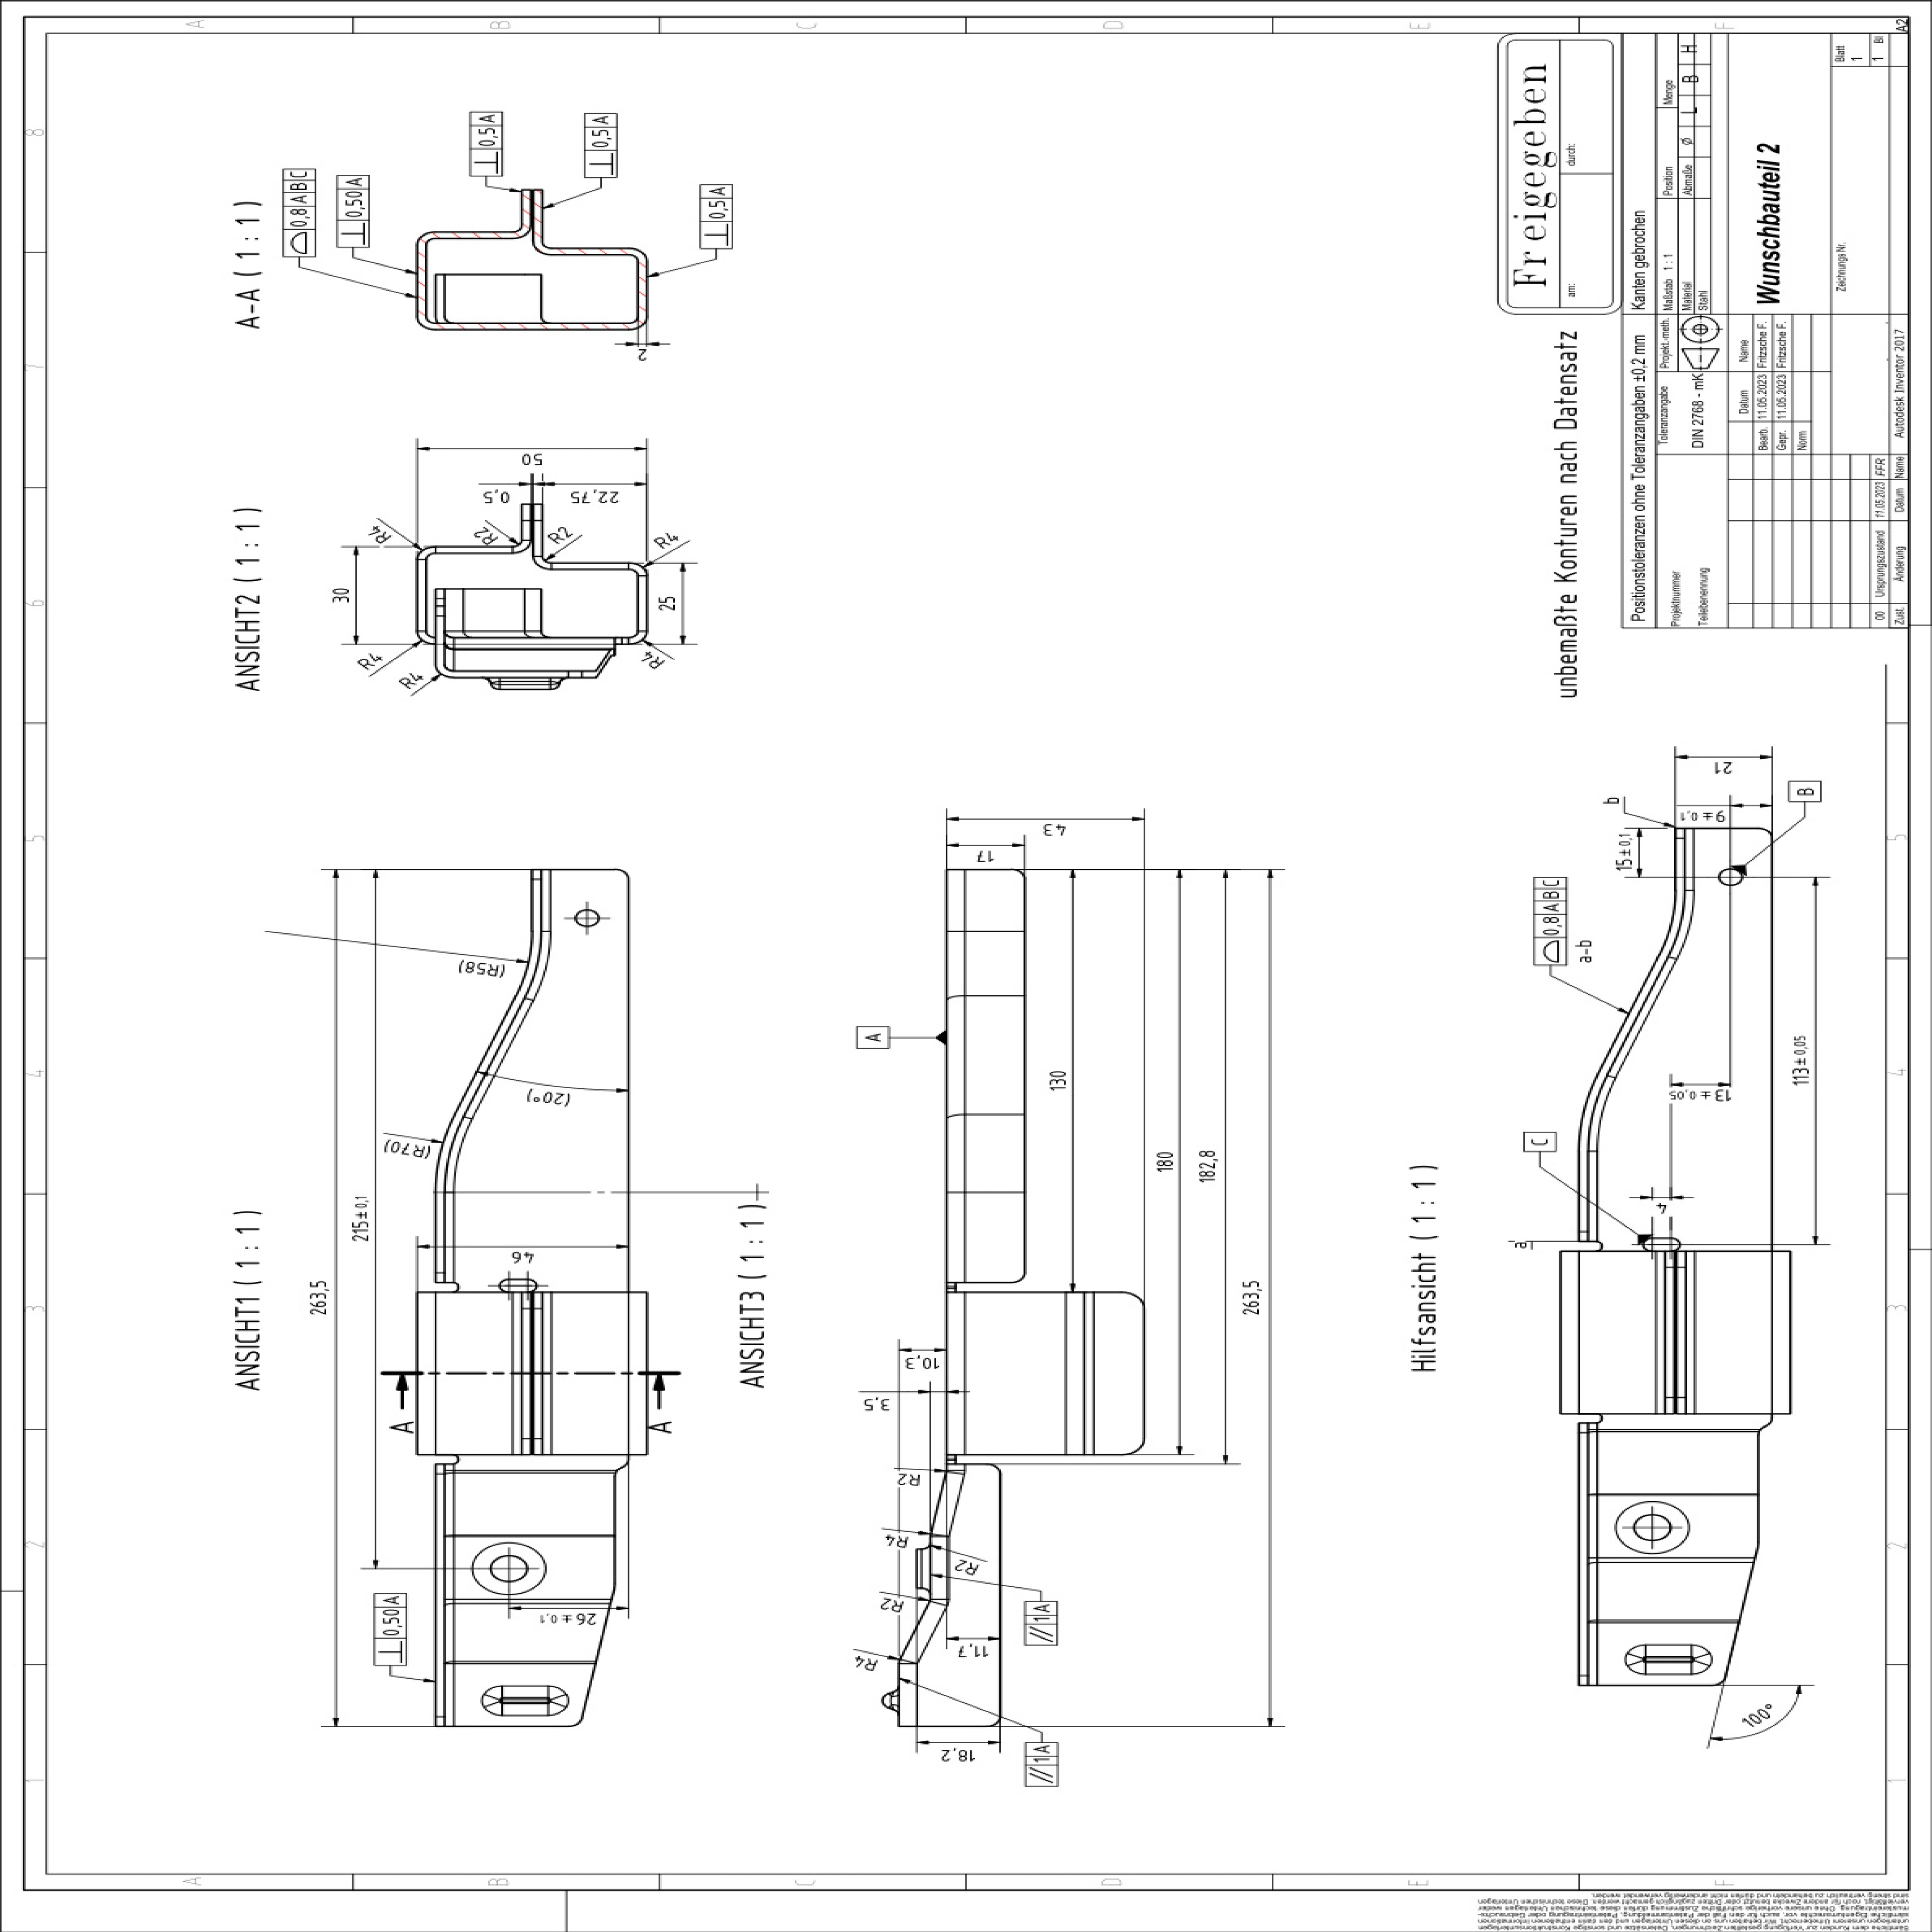3dBending: (1527, 810, 1734, 1251), (389, 855, 591, 1300)
BendingEdge: (1647, 1249, 1700, 1412), (510, 1293, 556, 1454), (1062, 1295, 1099, 1454), (943, 1288, 970, 1454), (414, 1293, 441, 1454), (1767, 1251, 1790, 1414), (625, 1297, 648, 1453), (1560, 1247, 1582, 1412), (1589, 1555, 1753, 1564), (1589, 1428, 1762, 1435), (1594, 1491, 1757, 1497), (1598, 1619, 1739, 1624), (513, 536, 531, 557)
BendingEdgeCurve: (410, 543, 439, 563), (529, 556, 554, 570), (416, 628, 433, 648), (628, 561, 649, 577), (628, 630, 648, 646)
Embossment: (476, 1683, 571, 1720), (1621, 1644, 1714, 1677), (879, 1690, 897, 1714)
InnerContour: (1716, 862, 1746, 892), (1638, 1233, 1684, 1251), (492, 1276, 543, 1290), (571, 909, 603, 927)
ThroughHole: (471, 1541, 548, 1598), (1615, 1502, 1691, 1557)
ThroughHoleExternal: (485, 678, 568, 692), (918, 1546, 932, 1594)
